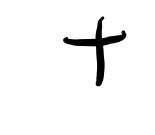plus: (62, 16, 127, 87)
